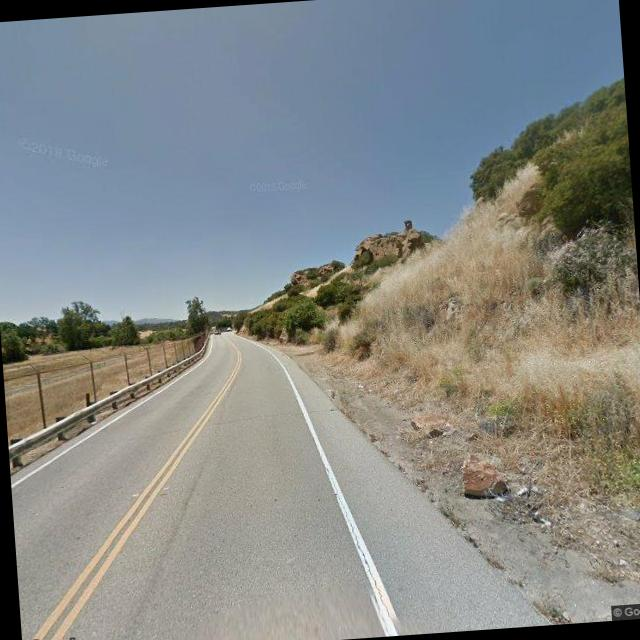crack: (92, 402, 334, 444), (326, 462, 384, 612)
